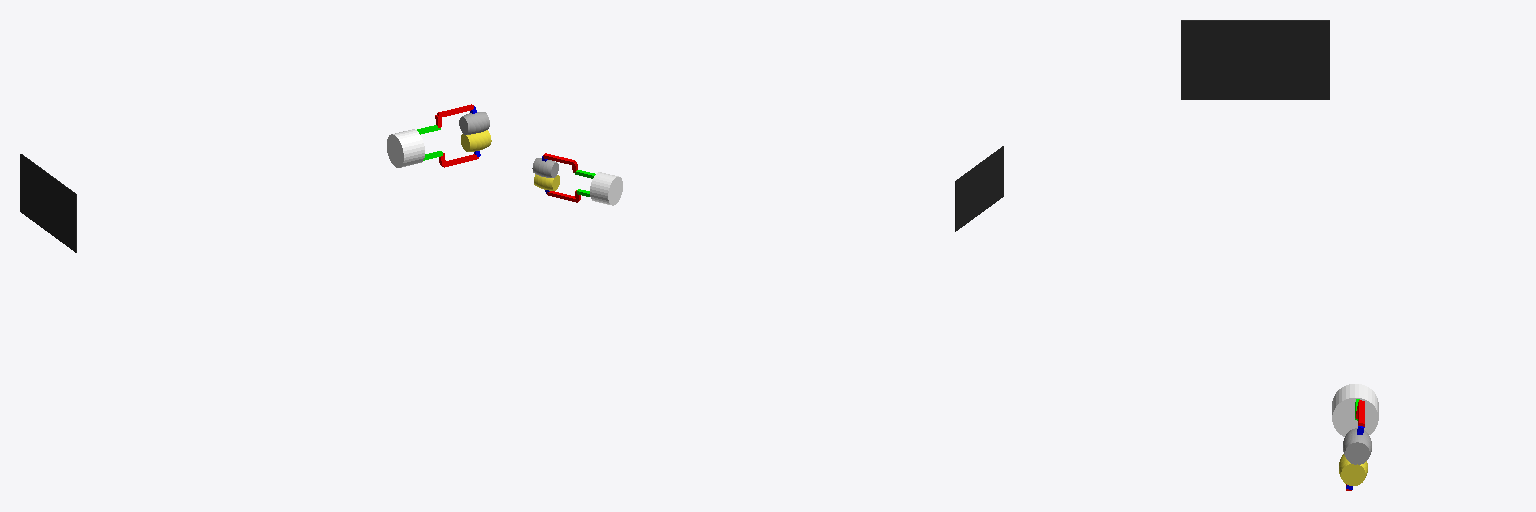
--- Facts derived from the render (not from the file) ---
3 views of the same robot in one strip: view 1: azimuth 30°, elevation 25°; view 2: azimuth 150°, elevation 25°; view 3: azimuth 270°, elevation 25° (orthographic).
Robot: sawyer — 28 links, 27 joints (12 revolute, 2 prismatic, 13 fixed); root link base; default pose: all joints at 0.
Links seen in each view (by area): view 1: screen, roller_baselink, link4_left; view 2: screen, roller_baselink; view 3: screen, roller_baselink, link4_left, link4_right.
Link boxes in pixels (x1=…): screen: x1=20, y1=154, x2=76, y2=252; roller_baselink: x1=387, y1=129, x2=424, y2=167; link4_left: x1=459, y1=112, x2=489, y2=134; screen: x1=955, y1=146, x2=1003, y2=231; roller_baselink: x1=590, y1=172, x2=622, y2=205; screen: x1=1181, y1=20, x2=1329, y2=99; roller_baselink: x1=1332, y1=384, x2=1378, y2=436; link4_left: x1=1343, y1=428, x2=1371, y2=464; link4_right: x1=1339, y1=454, x2=1367, y2=485.
Bounding box of the posed robot: 1.22 × 0.3178 × 0.5515 m (x, y, z).
2 mesh visuals loaded from 11 distinct referenced files (1 OBJ); not drawn: 10 (reference not matched to a file when rendering).

robot.urdf — sawyer:
<?xml version="1"?>
<!-- =================================================================================== -->
<!-- This document is combination of following:  -->

<!-- sawyer.urdf.xacro (Rethink Robotics, https://github.com/RethinkRobotics/sawyer_robot) -->

<!-- wsg_50.urdf (Robotnik Automation SLL, https://github.com/nalt/wsg50-ros-pkg) -->

<!-- DIGIT (Facebook. Inc., https://digit.ml) -->

<!-- =================================================================================== -->
<robot name="sawyer" xmlns:xacro="http://www.ros.org/wiki/xacro">
  <material name="black">
    <color rgba="0 0 0 1" />
  </material>
  <material name="darkgray">
    <color rgba="0.2 0.2 0.2 1" />
  </material>
  <material name="darkred">
    <color rgba="0.5 0.1 0.1 1" />
  </material>
  <material name="sawyer_red">
    <color rgba="0.5 0.1 0.1 1" />
  </material>
  <material name="sawyer_gray">
    <color rgba="0.75294 0.75294 0.75294 1" />
  </material>
  <link name="base">
    <inertial>
      <origin rpy="0 0 0" xyz="-0.1 0 0.07" />
      <!--Increase mass from 5 Kg original to provide a stable base to carry the
          arm.-->
      <mass value=".0" />
      <inertia ixx="0.05" ixy="0" ixz="0" iyy="0.06" iyz="0" izz="0.03" />
    </inertial>
  </link>
  <link name="torso">
    <visual>
      <origin rpy="0 0 0" xyz="0 0 0" />
      <geometry>
        <box size="0 0 0" />
      </geometry>
      <material name="darkgray">
        <color rgba="0.2 0.2 0.2 1" />
      </material>
    </visual>
    <inertial>
      <origin rpy="0 0 0" xyz="0 0 0" />
      <mass value="0.0001" />
      <inertia ixx="1e-08" ixy="0" ixz="0" iyy="1e-08" iyz="0" izz="1e-08" />
    </inertial>
  </link>
  <link name="pedestal">
    <visual>
      <origin rpy="1.5708 0 -1.5708" xyz="0.26 0.345 -0.91488" />
      <geometry>
        <!-- <mesh filename="../sawyer_robot/sawyer_description/meshes/sawyer_pv/pedestal.DAE" /> -->
        <mesh filename="../sawyer_robot/sawyer_description/meshes/sawyer_pv/pedestal.DAE" />
      </geometry>
      <material name="darkgray" />
    </visual>
    <collision>
      <origin rpy="0 0 0" xyz="0 0 -0.3" />
      <geometry>
        <cylinder length="0.62" radius="0.18" />
      </geometry>
    </collision>
    <inertial>
      <origin rpy="0 0 0" xyz="0 0 0" />
      <mass value="60.864" />
      <inertia ixx="5.0636" ixy="0.0010342" ixz="0.802" iyy="6.0869" iyz="0.0010531" izz="4.9619" />
    </inertial>
  </link>
  <!--
  <link name="controller_box">
    <collision>
      <origin rpy="0 0 0" xyz="-0.325 0 -0.38"/>
      <geometry>
        <box size="0.22 0.4 0.53"/>
      </geometry>
    </collision>
  </link>
  <joint name="controller_box_fixed" type="fixed">
    <origin rpy="0 0 0" xyz="0 0 0"/>
    <parent link="base"/>
    <child link="controller_box"/>
  </joint>
  <link name="pedestal_feet">
    <collision>
      <origin rpy="0 0 0" xyz="-0.1225 0 -0.758"/>
      <geometry>
        <box size="0.77 0.7 0.31"/>
      </geometry>
    </collision>
  </link>
  <joint name="pedestal_feet_fixed" type="fixed">
    <origin rpy="0 0 0" xyz="0 0 0"/>
    <parent link="base"/>
    <child link="pedestal_feet"/>
  </joint>
  -->
  <joint name="torso_t0" type="fixed">
    <origin rpy="0 0 0" xyz="0 0 0" />
    <parent link="base" />
    <child link="torso" />
  </joint>
  <joint name="pedestal_fixed" type="fixed">
    <origin rpy="0 0 0" xyz="0 0 0" />
    <parent link="base" />
    <child link="pedestal" />
  </joint>
  <joint name="right_arm_mount" type="fixed">
    <origin rpy="0 0 0" xyz="0 0 0" />
    <parent link="base" />
    <child link="right_arm_base_link" />
  </joint>
  <link name="right_arm_base_link">
    <inertial>
      <origin rpy="0 0 0" xyz="-0.0006241 -2.8025e-05 0.065404" />
      <mass value="2.0687" />
      <inertia ixx="0.0067599" ixy="-4.2024e-05" ixz="-6.1904e-07" iyy="0.0067877" iyz="1.5888e-05" izz="0.0074031" />
    </inertial>
    <visual>
      <origin rpy="0 0 0" xyz="0 0 0" />
      <geometry>
        <mesh filename="../sawyer_robot/sawyer_description/meshes/sawyer_pv/base.DAE" />
      </geometry>
      <material name="sawyer_red" />
    </visual>
    <collision>
      <origin rpy="0 0 0" xyz="0 0 0.12" />
      <geometry>
        <cylinder length="0.24" radius="0.08" />
      </geometry>
    </collision>
  </link>
  <link name="right_l0">
    <inertial>
      <origin rpy="0 0 0" xyz="0.024366 0.010969 0.14363" />
      <mass value="5.3213" />
      <inertia ixx="0.053314" ixy="0.0047093" ixz="0.011734" iyy="0.057902" iyz="0.0080179" izz="0.023659" />
    </inertial>
    <visual>
      <origin rpy="0 0 0" xyz="0 0 0" />
      <geometry>
        <mesh filename="../sawyer_robot/sawyer_description/meshes/sawyer_mp3/l0.DAE" />
      </geometry>
      <material name="sawyer_red" />
    </visual>
    <collision>
      <origin rpy="0 0 0" xyz="0.081 0 0.237" />
      <geometry>
        <sphere radius="0.07" />
      </geometry>
    </collision>
  </link>
  <joint name="right_j0" type="revolute">
    <origin rpy="0 0 0" xyz="0 0 0.08" />
    <parent link="right_arm_base_link" />
    <child link="right_l0" />
    <axis xyz="0 0 1" />
    <limit effort="80" lower="-3.0503" upper="3.0503" velocity="1.74" />
  </joint>
  <link name="head">
    <inertial>
      <origin rpy="0 0 0" xyz="0.0053207 -2.6549e-05 0.1021" />
      <mass value="1.5795" />
      <inertia ixx="0.011833" ixy="-4.4669e-06" ixz="4.9425e-05" iyy="0.0082709" iyz="4.2124e-07" izz="0.0049661" />
    </inertial>
    <visual>
      <origin rpy="0 0 0" xyz="0 0 0" />
      <geometry>
        <mesh filename="../sawyer_robot/sawyer_description/meshes/sawyer_pv/head.STL" />
      </geometry>
      <material name="sawyer_red" />
    </visual>
    <collision>
      <origin rpy="0 0 0" xyz="0 0 0.08" />
      <geometry>
        <sphere radius="0.18" />
      </geometry>
    </collision>
  </link>
  <joint name="head_pan" type="revolute">
    <origin rpy="0 0 0" xyz="0 0 0.2965" />
    <parent link="right_l0" />
    <child link="head" />
    <axis xyz="0 0 1" />
    <limit effort="8" lower="-5.1477" upper="0.9559" velocity="1.8" />
  </joint>
  <link name="right_torso_itb">
    <inertial>
      <origin rpy="0 0 0" xyz="0 0 0" />
      <mass value="0.0001" />
      <inertia ixx="1e-08" ixy="0" ixz="0" iyy="1e-08" iyz="0" izz="1e-08" />
    </inertial>
  </link>
  <joint name="right_torso_itb" type="fixed">
    <origin rpy="0 -1.5708 0" xyz="-0.055 0 0.22" />
    <parent link="right_l0" />
    <child link="right_torso_itb" />
    <axis xyz="0 0 1" />
  </joint>
  <link name="right_l1">
    <inertial>
      <origin rpy="0 0 0" xyz="-0.0030849 -0.026811 0.092521" />
      <mass value="4.505" />
      <inertia ixx="0.022398" ixy="-0.00023986" ixz="-0.00029362" iyy="0.014613" iyz="-0.0060875" izz="0.017295" />
    </inertial>
    <visual>
      <origin rpy="0 0 0" xyz="0 0 0" />
      <geometry>
        <mesh filename="../sawyer_robot/sawyer_description/meshes/sawyer_mp3/l1.DAE" />
      </geometry>
      <material name="sawyer_red" />
    </visual>
    <collision>
      <origin rpy="0 0 0" xyz="0 0 0.1225" />
      <geometry>
        <sphere radius="0.07" />
      </geometry>
    </collision>
  </link>
  <joint name="right_j1" type="revolute">
    <origin rpy="-1.5708 1.5708 0" xyz="0.081 0.05 0.237" />
    <parent link="right_l0" />
    <child link="right_l1" />
    <axis xyz="0 0 1" />
    <limit effort="80" lower="-3.8183" upper="2.2824" velocity="1.328" />
  </joint>
  <link name="right_l2">
    <inertial>
      <origin rpy="0 0 0" xyz="-0.00016232 -0.015346 0.13445" />
      <mass value="1.7251" />
      <inertia ixx="0.025176" ixy="4.3031e-06" ixz="1.4564e-05" iyy="0.024982" iyz="-0.0033928" izz="0.0033798" />
    </inertial>
    <visual>
      <origin rpy="0 0 0" xyz="0 0 0" />
      <geometry>
        <mesh filename="../sawyer_robot/sawyer_description/meshes/sawyer_pv/l2.DAE" />
      </geometry>
      <material name="sawyer_red" />
    </visual>
    <collision>
      <origin rpy="0 0 0" xyz="0 0 0.14" />
      <geometry>
        <cylinder length="0.35" radius="0.06" />
      </geometry>
    </collision>
  </link>
  <joint name="right_j2" type="revolute">
    <origin rpy="1.5708 0 0" xyz="0 -0.14 0.1425" />
    <parent link="right_l1" />
    <child link="right_l2" />
    <axis xyz="0 0 1" />
    <limit effort="40" lower="-3.0514" upper="3.0514" velocity="1.957" />
  </joint>
  <link name="right_l3">
    <inertial>
      <origin rpy="0 0 0" xyz="-0.0046678 -0.028394 -0.083127" />
      <mass value="2.4743" />
      <inertia ixx="0.0099549" ixy="-1.7675e-05" ixz="0.00027521" iyy="0.0064248" iyz="0.0030853" izz="0.0067746" />
    </inertial>
    <visual>
      <origin rpy="0 0 0" xyz="0 0 0" />
      <geometry>
        <mesh filename="../sawyer_robot/sawyer_description/meshes/sawyer_pv/l3.DAE" />
      </geometry>
      <material name="sawyer_red" />
    </visual>
    <collision>
      <origin rpy="0 0 0" xyz="0 -0.01 -0.12" />
      <geometry>
        <sphere radius="0.06" />
      </geometry>
    </collision>
  </link>
  <joint name="right_j3" type="revolute">
    <origin rpy="-1.5708 0 0" xyz="0 -0.042 0.26" />
    <parent link="right_l2" />
    <child link="right_l3" />
    <axis xyz="0 0 1" />
    <limit effort="40" lower="-3.0514" upper="3.0514" velocity="1.957" />
  </joint>
  <link name="right_l4">
    <inertial>
      <origin rpy="0 0 0" xyz="-0.0027794 0.0076558 0.13273" />
      <mass value="1.0433" />
      <inertia ixx="0.012913" ixy="2.573e-05" ixz="0.00017705" iyy="0.012939" iyz="0.0011152" izz="0.0012405" />
    </inertial>
    <visual>
      <origin rpy="0 0 0" xyz="0 0 0" />
      <geometry>
        <mesh filename="../sawyer_robot/sawyer_description/meshes/sawyer_pv/l4.DAE" />
      </geometry>
      <material name="sawyer_red" />
    </visual>
    <collision>
      <origin rpy="0 0 0" xyz="0 0 0.14" />
      <geometry>
        <cylinder length="0.36" radius="0.045" />
      </geometry>
    </collision>
  </link>
  <joint name="right_j4" type="revolute">
    <origin rpy="1.5708 0 0" xyz="0 -0.125 -0.1265" />
    <parent link="right_l3" />
    <child link="right_l4" />
    <axis xyz="0 0 1" />
    <limit effort="9" lower="-2.9842" upper="2.9842" velocity="3.485" />
  </joint>
  <link name="right_arm_itb">
    <inertial>
      <origin rpy="0 0 0" xyz="0 0 0" />
      <mass value="0.0001" />
      <inertia ixx="1e-08" ixy="0" ixz="0" iyy="1e-08" iyz="0" izz="1e-08" />
    </inertial>
  </link>
  <joint name="right_arm_itb" type="fixed">
    <origin rpy="0 -1.5708 0" xyz="-0.055 0 0.075" />
    <parent link="right_l4" />
    <child link="right_arm_itb" />
    <axis xyz="0 0 1" />
  </joint>
  <link name="right_l5">
    <inertial>
      <origin rpy="0 0 0" xyz="0.0062067 -0.024291 0.075564" />
      <mass value="1.5343" />
      <inertia ixx="0.0046072" ixy="0.00012002" ixz="5.3065e-05" iyy="0.0028725" iyz="-0.0011886" izz="0.003101" />
    </inertial>
    <visual>
      <origin rpy="0 0 0" xyz="0 0 0" />
      <geometry>
        <mesh filename="../sawyer_robot/sawyer_description/meshes/sawyer_pv/l5.STL" />
      </geometry>
      <material name="sawyer_red" />
    </visual>
    <collision>
      <origin rpy="0 0 0" xyz="0.01 0 0.09" />
      <geometry>
        <sphere radius="0.06" />
      </geometry>
    </collision>
  </link>
  <joint name="right_j5" type="revolute">
    <origin rpy="-1.5708 0 0" xyz="0 0.031 0.275" />
    <parent link="right_l4" />
    <child link="right_l5" />
    <axis xyz="0 0 1" />
    <limit effort="9" lower="-2.9842" upper="2.9842" velocity="3.485" />
  </joint>
  <link name="right_hand_camera" />
  <joint name="right_hand_camera" type="fixed">
    <origin rpy="0 1.5708 0" xyz="0.039552 -0.033 0.0695" />
    <parent link="right_l5" />
    <child link="right_hand_camera" />
    <axis xyz="0 0 0" />
  </joint>
  <link name="right_wrist" />
  <joint name="right_wrist" type="fixed">
    <origin rpy="1.5708 0 0" xyz="0 0 0.10541" />
    <parent link="right_l5" />
    <child link="right_wrist" />
    <axis xyz="0 0 0" />
  </joint>
  <link name="right_l6">
    <inertial>
      <origin rpy="0 0 0" xyz="-8.0726e-06 0.0085838 -0.0049566" />
      <mass value="0.3292" />
      <inertia ixx="0.00031105" ixy="1.4771e-06" ixz="-3.7074e-07" iyy="0.00021549" iyz="-8.4533e-06" izz="0.00035976" />
    </inertial>
    <visual>
      <origin rpy="0 0 0" xyz="0 0 0" />
      <geometry>
        <mesh filename="../sawyer_robot/sawyer_description/meshes/sawyer_mp1/l6.STL" />
      </geometry>
      <material name="sawyer_red" />
    </visual>
    <collision>
      <origin rpy="0 0 0" xyz="0 0 -0.005" />
      <geometry>
        <cylinder length="0.05" radius="0.065" />
      </geometry>
    </collision>
  </link>
  <joint name="right_j6" type="revolute">
    <origin rpy="-1.5708 -0.17453 3.1416" xyz="0 -0.11 0.1053" />
    <parent link="right_l5" />
    <child link="right_l6" />
    <axis xyz="0 0 1" />
    <limit effort="9" lower="-4.7104" upper="4.7104" velocity="4.545" />
  </joint>
  <link name="right_hand">
    <collision>
      <origin rpy="0 0 0" xyz="0 0 0" />
      <geometry>
        <cylinder length="0" radius="0" />
      </geometry>
    </collision>
    <inertial>
      <origin rpy="0 0 0" xyz="1e-08 1e-08 1e-08" />
      <mass value="1e-08" />
      <inertia ixx="1e-08" ixy="1e-08" ixz="1e-08" iyy="1e-08" iyz="1e-08" izz="1e-08" />
    </inertial>
  </link>
  <joint name="right_hand" type="fixed">
    <origin rpy="0 0 1.5708" xyz="0 0 0.0245" />
    <axis xyz="0 0 1" />
    <parent link="right_l6" />
    <child link="right_hand" />
  </joint>
  <link name="screen">
    <visual>
      <origin rpy="0 0 0" xyz="0 0 0" />
      <geometry>
        <box size="0.24 0.14 0.002" />
      </geometry>
      <material name="darkgray" />
    </visual>
    <collision>
      <origin rpy="0 0 0" xyz="0 0 0" />
      <geometry>
        <sphere radius="0.001" />
      </geometry>
    </collision>
    <inertial>
      <origin rpy="0 0 0" xyz="0 0 0" />
      <mass value="0.0001" />
      <inertia ixx="1e-08" ixy="0" ixz="0" iyy="1e-08" iyz="0" izz="1e-08" />
    </inertial>
  </link>
  <joint name="display_joint" type="fixed">
    <origin rpy="1.5708 0 1.5708" xyz="0.03 0 0.105" />
    <parent link="head" />
    <child link="screen" />
  </joint>
  <link name="head_camera" />
  <joint name="head_camera" type="fixed">
    <origin rpy="-2.1293 0 -1.5708" xyz="0.022803 0 0.21657" />
    <parent link="head" />
    <child link="head_camera" />
    <axis xyz="0 0 0" />
  </joint>


  <!-- Weiss Gripper WSG50 -->


  <link name="roller_baselink">
    <inertial>
      <origin rpy="0 0 0" xyz="0 0 0" />
      <mass value="0" />
      <inertia ixx="0" ixy="0" ixz="0" iyy="0" iyz="0" izz="0" />
    </inertial>

    <visual>
      <origin rpy="0 0 0" xyz="0 0 0" />
      <geometry>
        <cylinder radius="0.0375" length="0.05325" />
      </geometry>
      <material name="white">
        <color rgba="1 1 1 1" />
      </material>
    </visual>

    <collision>
      <origin rpy="0 0 0" xyz="0 0 0" />
      <geometry>
        <cylinder radius="0.0375" length="0.05325" />
      </geometry>
    </collision>

  </link>


  <link name="link1_left">
    <inertial>
      <origin rpy="0 0 0" xyz="0 0 0.03" />
      <mass value="0.5" />
      <inertia ixx="0.0001" ixy="0" ixz="0" iyy="0.0001" iyz="0" izz="0.0001" />
    </inertial>

    <visual>
      <origin rpy="0 0 0" xyz="0 0 0.03" />
      <geometry>
        <box size="0.01 0.01 0.06" />
      </geometry>
      <material name="green">
        <color rgba="0 1 0 1" />
      </material>
    </visual>

    <collision>
      <origin rpy="0 0 0" xyz="0 0 0.03" />
      <geometry>
        <box size="0.01 0.01 0.06" />
      </geometry>
    </collision>
  </link>

  <link name="link2_left">
    <inertial>
      <origin rpy="0 0 0" xyz="0 -0.0191446 0.03748" />
      <mass value="0.5" />
      <inertia ixx="0.0001" ixy="0" ixz="0" iyy="0.0001" iyz="0" izz="0.0001" />
    </inertial>

    <visual>
      <origin rpy="0 0 0" xyz="0 -0.0262 0.043525" />
      <geometry>
        <box size="0.01 0.01 0.08705" />
      </geometry>
      <material name="red">
        <color rgba="1 0 0 1" />
      </material>
    </visual>

    <visual>
      <origin rpy="0 0 0" xyz="0 -0.0131 0" />
      <geometry>
        <box size="0.01 0.0262 0.01" />
      </geometry>
      <material name="red">
        <color rgba="1 0 0 1" />
      </material>
    </visual>

    <collision>
      <origin rpy="0 0 0" xyz="0 -0.0262 0.043525" />
      <geometry>
        <box size="0.01 0.01 0.08705" />
      </geometry>
    </collision>

    <collision>
      <origin rpy="0 0 0" xyz="0 -0.0131 0" />
      <geometry>
        <box size="0.01 0.0262 0.01" />
      </geometry>
    </collision>

  </link>

  <link name="link3_left">
    <inertial>
      <origin rpy="0 0 0" xyz="0 0 0.03" />
      <mass value="0.5" />
      <inertia ixx="0.0001" ixy="0" ixz="0" iyy="0.0001" iyz="0" izz="0.0001" />
    </inertial>

    <visual>
      <origin rpy="0 0 0" xyz="0 0.0184 0" />
      <geometry>
        <box size="0.01 0.0368 0.01" />
      </geometry>
      <material name="blue">
        <color rgba="0 0 1 1" />
      </material>
    </visual>

    <collision>
      <origin rpy="0 0 0" xyz="0 0.0184 0" />
      <geometry>
        <box size="0.01 0.0368 0.01" />
      </geometry>
    </collision>
  </link>


  <link name="link4_left">
    <inertial>
      <origin rpy="0 0 0" xyz="0 0 0.0" />
      <mass value="0.5" />
      <inertia ixx="0.0001" ixy="0" ixz="0" iyy="0.0001" iyz="0" izz="0.0001" />
    </inertial>

    <visual>
      <origin rpy="0 0 0" xyz="0 0 0.0" />
      <geometry>
        <mesh filename="gelsight_cad.obj" scale="1 1 1" />
      </geometry>
    </visual>

    <collision>
      <origin rpy="0 0 0" xyz="0 0 0.0" />
      <geometry>
        <mesh filename="gelsight_cad.obj" scale="1 1 1" />
      </geometry>
    </collision>

  </link>

  <!-- <link name="link5_left">
      <inertial>
        <origin rpy="0 0 0" xyz="0 0 0.03"/>
         <mass value="0.5"/>
         <inertia ixx="0.0001" ixy="0" ixz="0" iyy="0.0001" iyz="0" izz="0.0001"/>
      </inertial>
  
      <visual>
        <origin rpy="0 0 0" xyz="0 0 0.03"/>
        <geometry>
          <box size="0.01 0.01 0.06" />      
        </geometry>     
        <material name="green">
          <color rgba="0 1 0 1"/>
        </material>
      </visual>
      
      <collision>
        <origin rpy="0 0 0" xyz="0 0 0.03"/>
        <geometry>
          <box size="0.01 0.01 0.06" />      
        </geometry>
      </collision>
    </link> -->


  <link name="link1_right">
    <inertial>
      <origin rpy="0 0 0" xyz="0 0 0.03" />
      <mass value="0.5" />
      <inertia ixx="0.0001" ixy="0" ixz="0" iyy="0.0001" iyz="0" izz="0.0001" />
    </inertial>

    <visual>
      <origin rpy="0 0 0" xyz="0 0 0.03" />
      <geometry>
        <box size="0.01 0.01 0.06" />
      </geometry>
      <material name="green">
        <color rgba="0 1 0 1" />
      </material>
    </visual>

    <collision>
      <origin rpy="0 0 0" xyz="0 0 0.03" />
      <geometry>
        <box size="0.01 0.01 0.06" />
      </geometry>
    </collision>
  </link>

  <link name="link2_right">
    <inertial>
      <origin rpy="0 0 0" xyz="0 0.0191446 0.03748" />
      <mass value="0.5" />
      <inertia ixx="0.0001" ixy="0" ixz="0" iyy="0.0001" iyz="0" izz="0.0001" />
    </inertial>

    <visual>
      <origin rpy="0 0 0" xyz="0 0.0262 0.043525" />
      <geometry>
        <box size="0.01 0.01 0.08705" />
      </geometry>
      <material name="red">
        <color rgba="1 0 0 1" />
      </material>
    </visual>

    <visual>
      <origin rpy="0 0 0" xyz="0 0.0131 0" />
      <geometry>
        <box size="0.01 0.0262 0.01" />
      </geometry>
      <material name="red">
        <color rgba="1 0 0 1" />
      </material>
    </visual>

    <collision>
      <origin rpy="0 0 0" xyz="0 0.0262 0.043525" />
      <geometry>
        <box size="0.01 0.01 0.08705" />
      </geometry>
    </collision>

    <collision>
      <origin rpy="0 0 0" xyz="0 0.0131 0" />
      <geometry>
        <box size="0.01 0.0262 0.01" />
      </geometry>
    </collision>

  </link>

  <link name="link3_right">
    <inertial>
      <origin rpy="0 0 0" xyz="0 0 0.03" />
      <mass value="0.5" />
      <inertia ixx="0.0001" ixy="0" ixz="0" iyy="0.0001" iyz="0" izz="0.0001" />
    </inertial>

    <visual>
      <origin rpy="0 0 0" xyz="0 -0.0184 0" />
      <geometry>
        <box size="0.01 0.0368 0.01" />
      </geometry>
      <material name="blue">
        <color rgba="0 0 1 1" />
      </material>
    </visual>

    <collision>
      <origin rpy="0 0 0" xyz="0 -0.0184 0" />
      <geometry>
        <box size="0.01 0.0368 0.01" />
      </geometry>
    </collision>
  </link>


  <link name="link4_right">
    <inertial>
      <origin rpy="0 0 0" xyz="0 0 0.0" />
      <mass value="0.5" />
      <inertia ixx="0.0001" ixy="0" ixz="0" iyy="0.0001" iyz="0" izz="0.0001" />
    </inertial>

    <visual>
      <origin rpy="0 0 0" xyz="0 0 0.0" />
      <geometry>
        <mesh filename="gelsight_cad.obj" scale="1 1 1" />
      </geometry>
    </visual>

    <collision>
      <origin rpy="0 0 0" xyz="0 0 0.0" />
      <geometry>
        <mesh filename="gelsight_cad.obj" scale="1 1 1" />
      </geometry>
    </collision>

  </link>

  <!-- <link name="link5_right">
      <inertial>
        <origin rpy="0 0 0" xyz="0 0 0.03"/>
         <mass value="0.5"/>
         <inertia ixx="0.0001" ixy="0" ixz="0" iyy="0.0001" iyz="0" izz="0.0001"/>
      </inertial>
  
      <visual>
        <origin rpy="0 0 0" xyz="0 0 0.03"/>
        <geometry>
          <box size="0.01 0.01 0.06" />      
        </geometry>     
        <material name="green">
          <color rgba="0 1 0 1"/>
        </material>
      </visual>
      
      <collision>
        <origin rpy="0 0 0" xyz="0 0 0.03"/>
        <geometry>
          <box size="0.01 0.01 0.06" />      
        </geometry>
      </collision>
    </link> -->


  <joint name="joint1_left" type="prismatic">
    <origin xyz="0.0 -0.02975 0.026625" rpy="0 0 0" />
    <parent link="roller_baselink" />
    <child link="link1_left" />
    <axis xyz="0 1 0" />
    <limit effort="10.0" lower="-0.05" upper="0.0" velocity="10000" />
    <dynamics damping="0.0" friction="0.0" />
  </joint>

  <joint name="joint2_left" type="fixed">
    <origin xyz="0.0 0.0 0.06" rpy="0 0 0" />
    <parent link="link1_left" />
    <child link="link2_left" />
    <axis xyz="1 0 0" />
    <limit effort="1.0" lower="-10000" upper="10000" velocity="10000" />
    <dynamics damping="0.0" friction="0.0" />
  </joint>

  <joint name="joint3_left" type="revolute">
    <origin xyz="0.0 -0.0262 0.08705" rpy="0 0 0" />
    <parent link="link2_left" />
    <child link="link3_left" />
    <axis xyz="0 1 0" />
    <limit effort="1.0" lower="-10000" upper="10000" velocity="10000" />
    <dynamics damping="0.0" friction="0.0" />
  </joint>

  <joint name="joint4_left" type="revolute">
    <origin xyz="0.0 0.0368 0.0" rpy="0 0 0" />
    <parent link="link3_left" />
    <child link="link4_left" />
    <axis xyz="0 0 1" />
    <limit effort="1.0" lower="-10000" upper="10000" velocity="10000" />
    <dynamics damping="0.0" friction="0.0" />
  </joint>

  <!-- <joint name = "joint5_left" type = "revolute">
      <origin xyz = "0.0 -0.00875 0.047625" rpy = "0 0 0"/> 
      <parent link = "roller_baselink" />
      <child link= "link5_left"/>
      <axis xyz = "1 0 0" />
      <limit effort="1.0" lower="-10000" upper="10000" velocity="10000" />
      <dynamics damping = "0.0" friction="0.0" />
    </joint> -->


  <joint name="joint1_right" type="prismatic">
    <origin xyz="0.0 0.02975 0.026625" rpy="0 0 0" />
    <parent link="roller_baselink" />
    <child link="link1_right" />
    <axis xyz="0 1 0" />
    <limit effort="10.0" lower="0.0" upper="0.05" velocity="10000" />
    <dynamics damping="0.0" friction="0.0" />
  </joint>

  <joint name="joint2_right" type="fixed">
    <origin xyz="0.0 0.0 0.06" rpy="0 0 0" />
    <parent link="link1_right" />
    <child link="link2_right" />
    <axis xyz="1 0 0" />
    <limit effort="1.0" lower="-10000" upper="10000" velocity="10000" />
    <dynamics damping="0.0" friction="0.0" />
  </joint>

  <joint name="joint3_right" type="revolute">
    <origin xyz="0.0 0.0262 0.08705" rpy="0 0 0" />
    <parent link="link2_right" />
    <child link="link3_right" />
    <axis xyz="0 1 0" />
    <limit effort="1.0" lower="-10000" upper="10000" velocity="10000" />
    <dynamics damping="0.0" friction="0.0" />
  </joint>

  <joint name="joint4_right" type="revolute">
    <origin xyz="0.0 -0.0368 0.0" rpy="0 0 0" />
    <parent link="link3_right" />
    <child link="link4_right" />
    <axis xyz="0 0 1" />
    <limit effort="1.0" lower="-10000" upper="10000" velocity="10000" />
    <dynamics damping="0.0" friction="0.0" />
  </joint>

  <!-- <joint name = "joint5_right" type = "revolute">
      <origin xyz = "0.0 0.00875 0.047625" rpy = "0 0 0"/> 
      <parent link = "roller_baselink" />
      <child link= "link5_right"/>
      <axis xyz = "1 0 0" />
      <limit effort="1.0" lower="-10000" upper="10000" velocity="10000" />
      <dynamics damping = "0.0" friction="0.0" />
    </joint> -->
    <!-- ##################. Connect WSG50 to Sawyer ################## -->
  <joint name="roller_baselink_x" type="fixed">
    <parent link="right_hand" />
    <child link="roller_baselink" />
    <origin rpy="0.0 0 0" xyz="0.0 0.0 0.0" />
  </joint>


</robot>
